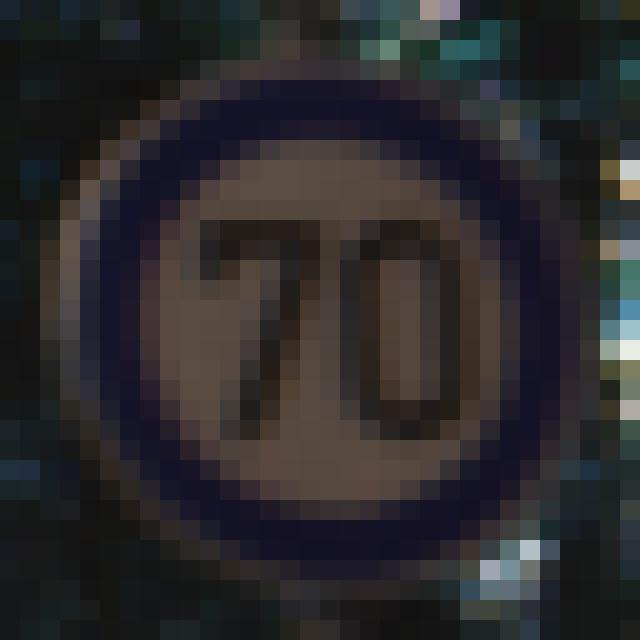SPEED LIMIT 70: (25, 56, 582, 594)
